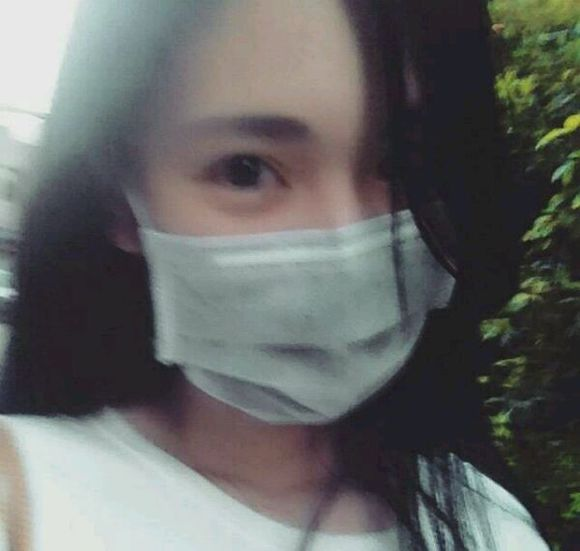face_mask: (136, 7, 454, 421)
